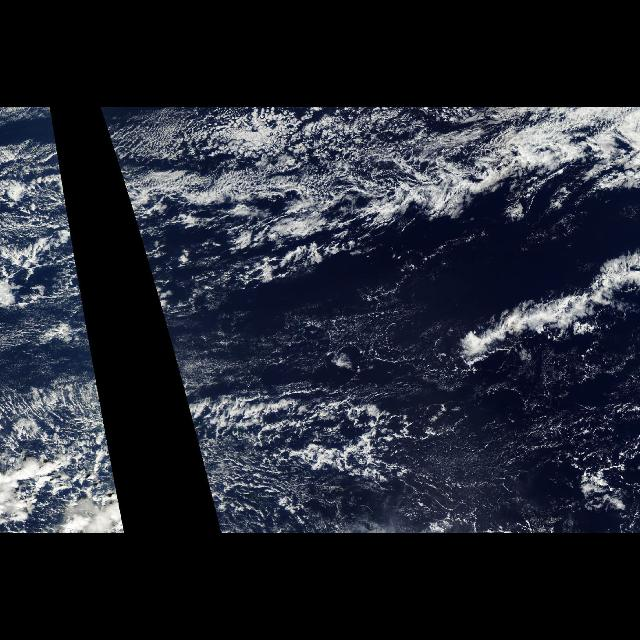Gravel: (206, 361, 640, 533), (134, 114, 584, 233)
Sugar: (197, 331, 458, 533), (502, 348, 636, 526)
